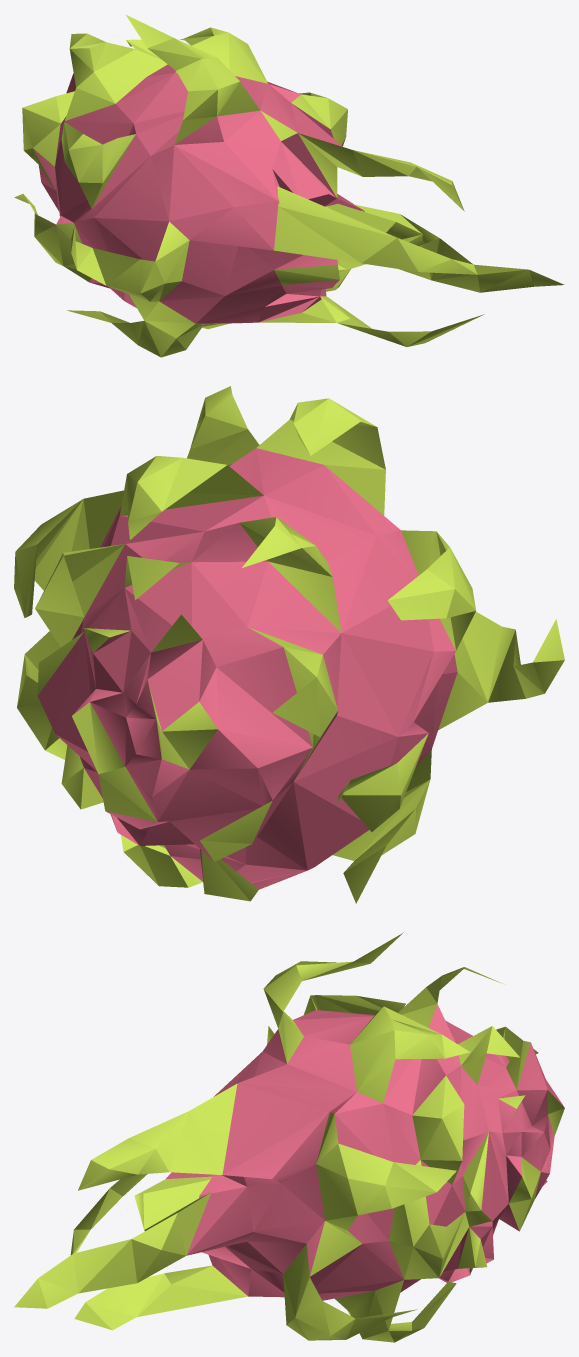
The model's file is buah naga.fbx.
3 renders of one model, top to bottom at view 1: azimuth 30°, elevation 25°; view 2: azimuth 150°, elevation 25°; view 3: azimuth 270°, elevation 25°, orthographic. The views are drawn at different scales.
Visible parts, largest first — view 1: Leaf, Fruit; view 2: Fruit, Leaf; view 3: Leaf, Fruit.
Boxes of the visible parts, <box> form: Leaf: <box>14,14,564,357</box>; Fruit: <box>33,64,364,324</box>; Fruit: <box>37,448,457,890</box>; Leaf: <box>14,386,564,903</box>; Leaf: <box>14,932,564,1342</box>; Fruit: <box>166,1004,564,1300</box>.
Bounding box in the file's own units: 3.87 × 3.11 × 4.35.
